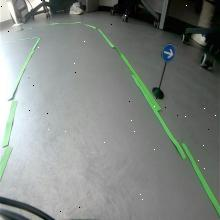right: (162, 44, 176, 62)
